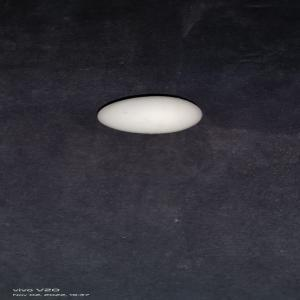Egg: (97, 95, 208, 135)
